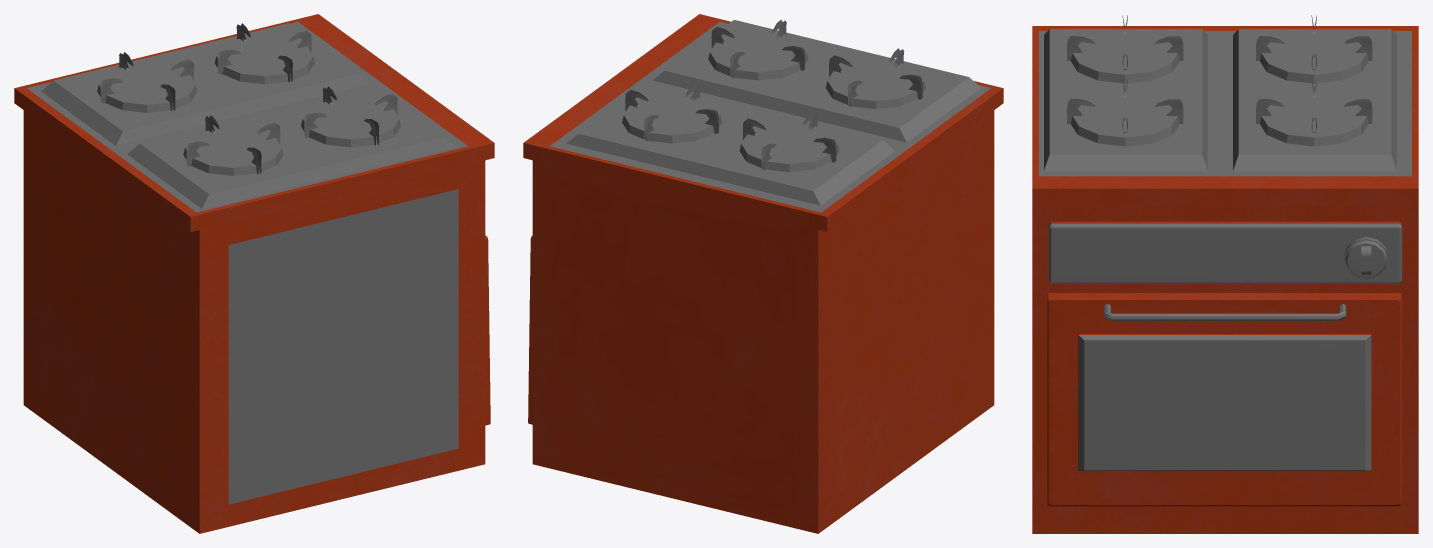
The model's file is Oven.fbx.
3 views of the same model, side by side, from view 1: azimuth 30°, elevation 25°; view 2: azimuth 150°, elevation 25°; view 3: azimuth 270°, elevation 25° (orthographic). The views are drawn at different scales.
Visible parts, largest first — view 1: polySurface17, polySurface5; view 2: polySurface17, polySurface5; view 3: polySurface17, polySurface5.
Boxes of the visible parts, x1,y1,x2,y2 form: polySurface17: (14, 14, 494, 533); polySurface5: (485, 235, 490, 425); polySurface17: (523, 14, 1003, 533); polySurface5: (528, 235, 532, 424); polySurface17: (1032, 15, 1418, 533); polySurface5: (1047, 293, 1402, 506).
Size of the model in its own units: 1.15 by 1.17 by 1.07.
